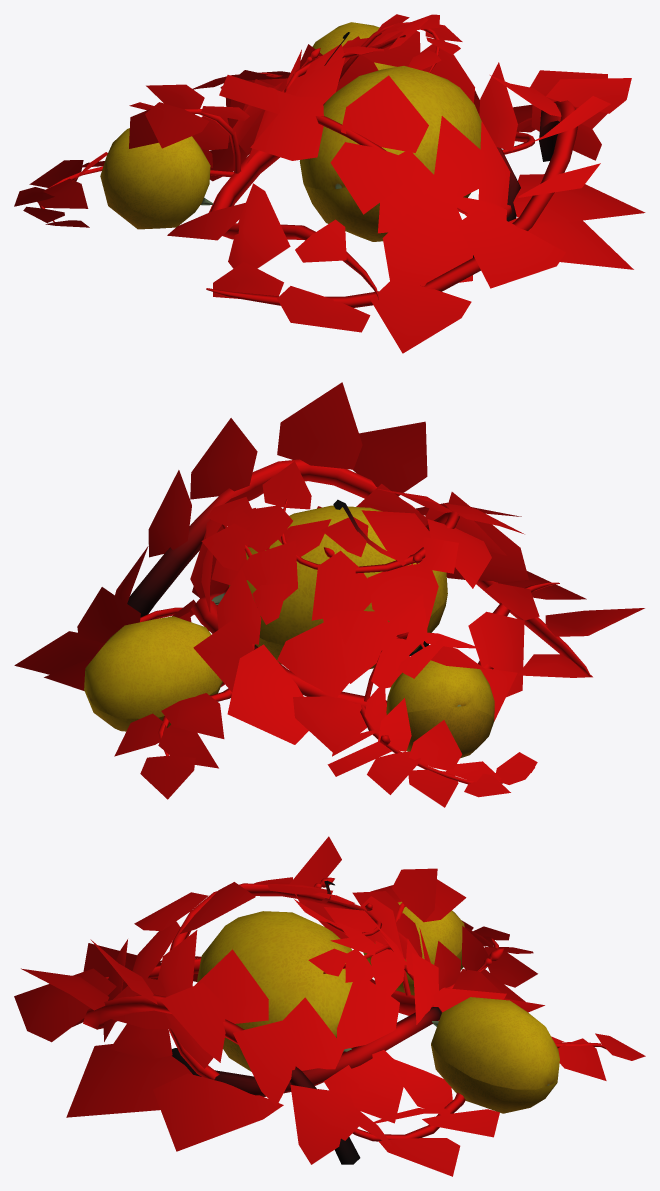
The model's file is SM_Farm_MelonGrown_03.fbx.
3 renders of one model, top to bottom at view 1: azimuth 30°, elevation 25°; view 2: azimuth 150°, elevation 25°; view 3: azimuth 270°, elevation 25°, orthographic. The views are drawn at different scales.
Visible parts, largest first — view 1: SM_Farm_MelonGrown_03_LOD0; view 2: SM_Farm_MelonGrown_03_LOD0; view 3: SM_Farm_MelonGrown_03_LOD0.
Part boxes in pixels (box(x1,y1,x2,y2)): SM_Farm_MelonGrown_03_LOD0: box(14, 14, 645, 353); SM_Farm_MelonGrown_03_LOD0: box(14, 382, 644, 807); SM_Farm_MelonGrown_03_LOD0: box(14, 836, 645, 1176).
Bounding box in the file's own units: 119 × 47.02 × 131.
